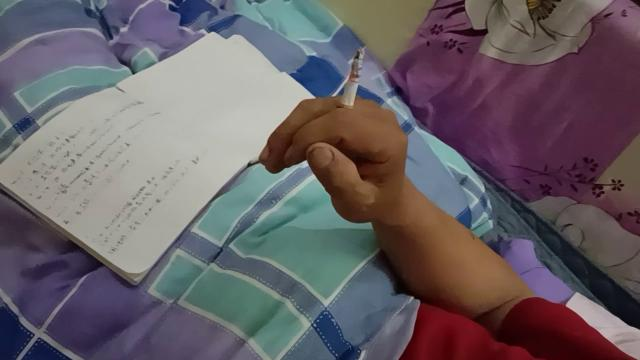Cigarette: (336, 47, 366, 122)
